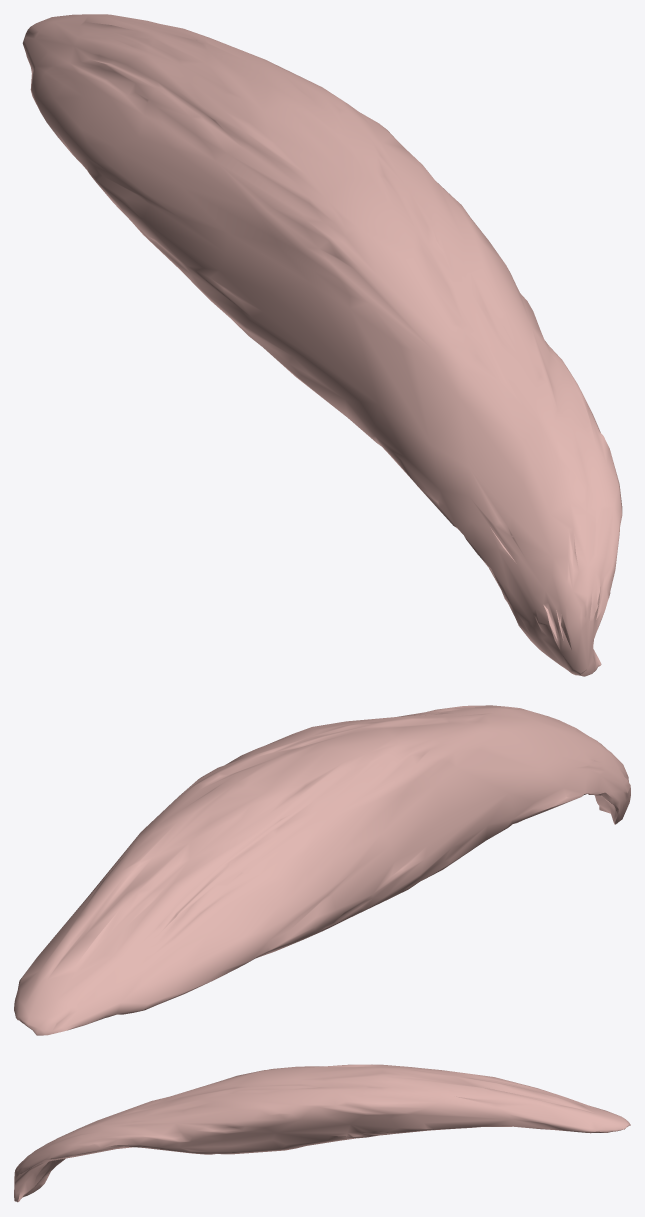
Rendered from gastrocnemius_lateral.glb.
3 renders of one model, top to bottom at view 1: azimuth 30°, elevation 25°; view 2: azimuth 150°, elevation 25°; view 3: azimuth 270°, elevation 25°, orthographic. The views are drawn at different scales.
Parts seen in each view (by area): view 1: gastrocnemius_lateral; view 2: gastrocnemius_lateral; view 3: gastrocnemius_lateral.
Part boxes in pixels (x1=…): gastrocnemius_lateral: x1=22, y1=14, x2=622, y2=676; gastrocnemius_lateral: x1=14, y1=705, x2=630, y2=1035; gastrocnemius_lateral: x1=14, y1=1064, x2=630, y2=1202.
Size of the model in its own units: 55.82 by 74.84 by 290.
